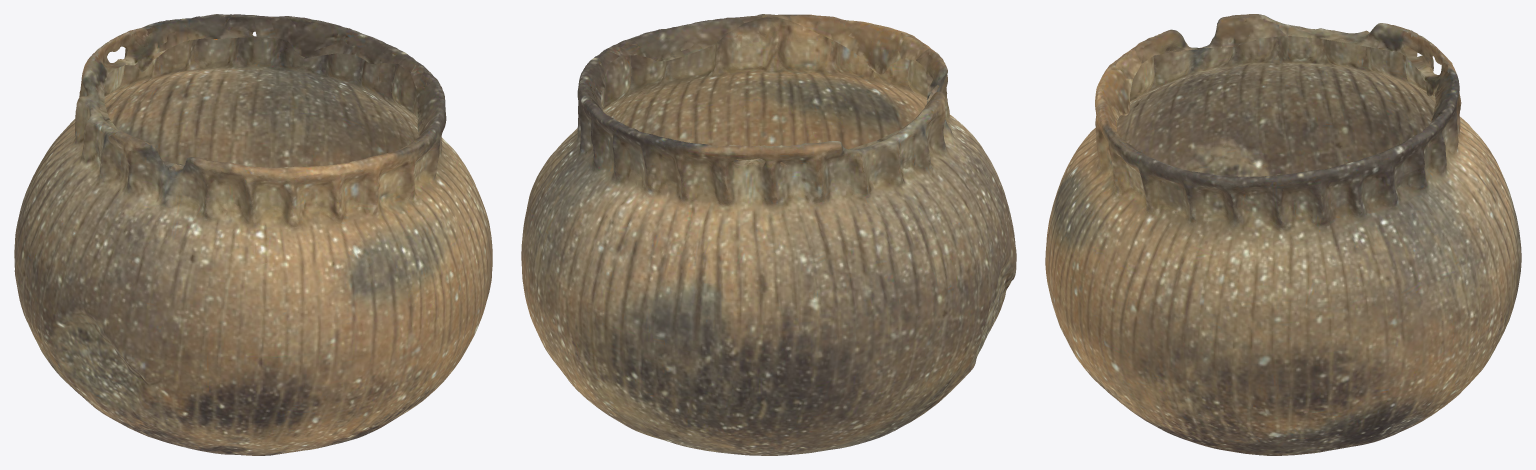
Rendered from Ark_HM_272_HI.glb.
3 renders of one model, left to right at view 1: azimuth 30°, elevation 25°; view 2: azimuth 150°, elevation 25°; view 3: azimuth 270°, elevation 25°, orthographic. The views are drawn at different scales.
Size of the model in its own units: 0.4996 by 0.3927 by 0.4953.
Materials: 1 (1 with a texture image).
